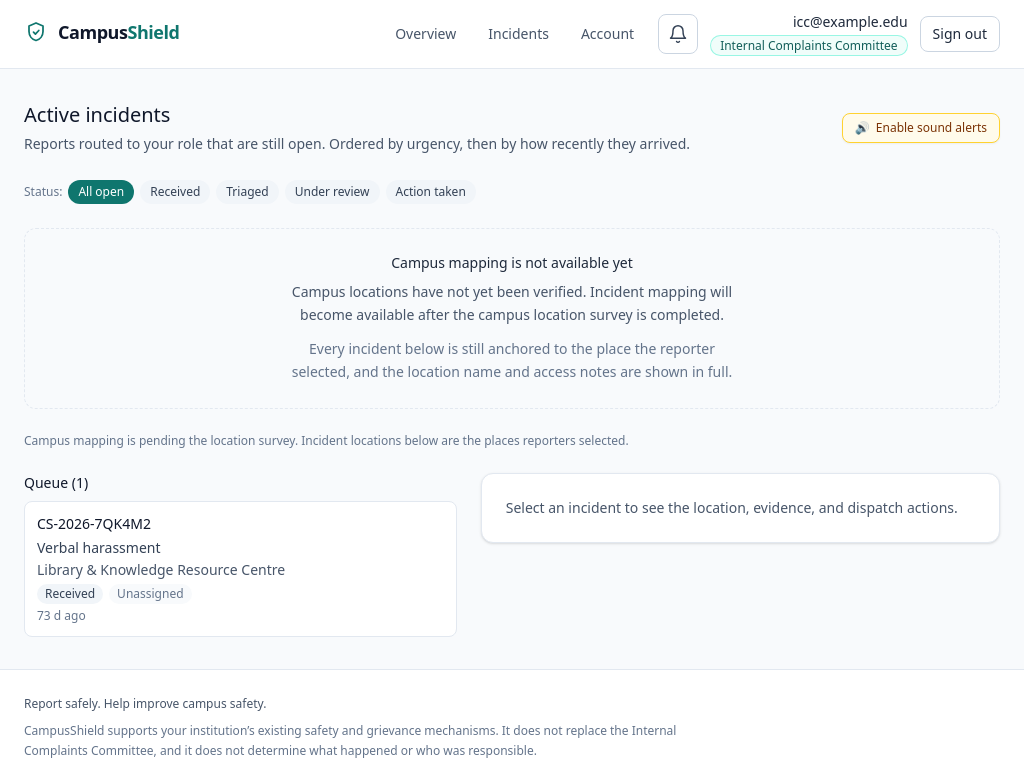
it: IncidentsPage — incident detail › gives directions a responder can use without a map
Click the button "CS-2026-7QK4M2": (240,569) [24,501,457,637]
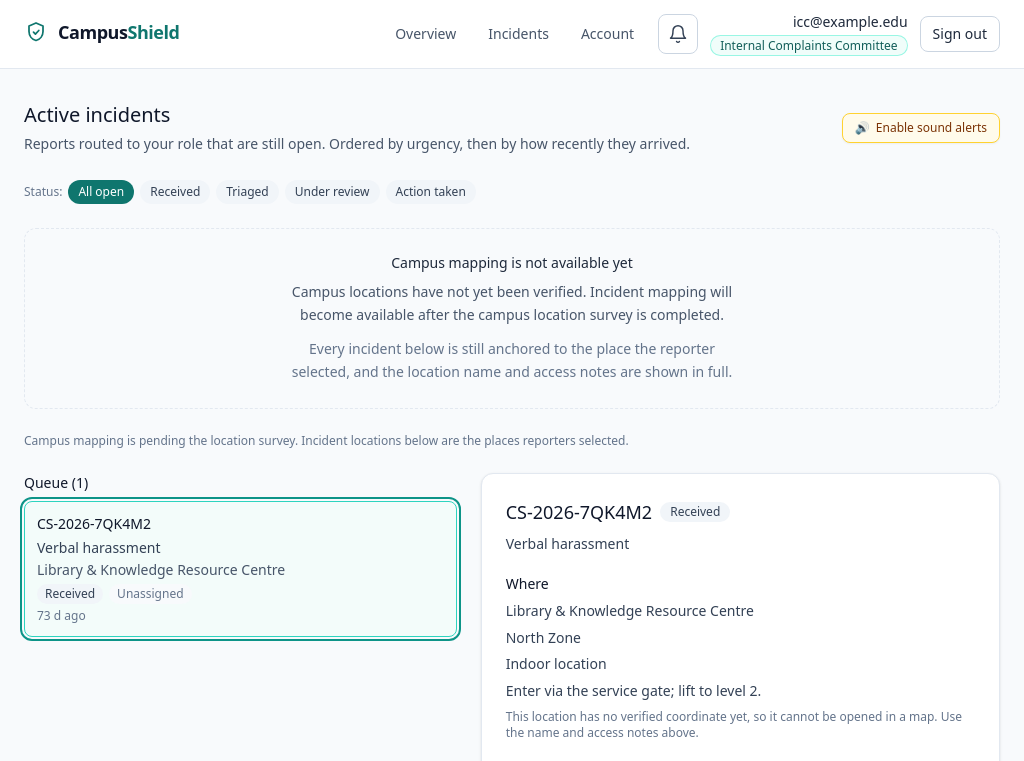
Expected: the list item "Enter via the service gate; lift to level 2." is shown, [506,681,761,700]
Expected: the list item "North Zone" is shown, [506,628,581,646]
Expected: the text "no verified coordinate yet, so it cannot be opened in a map" is shown, [506,708,962,741]
